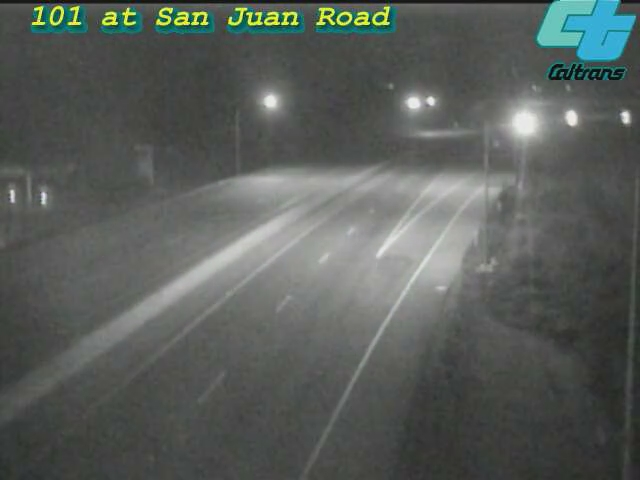vehicle: (497, 99, 547, 149), (550, 93, 600, 143)
